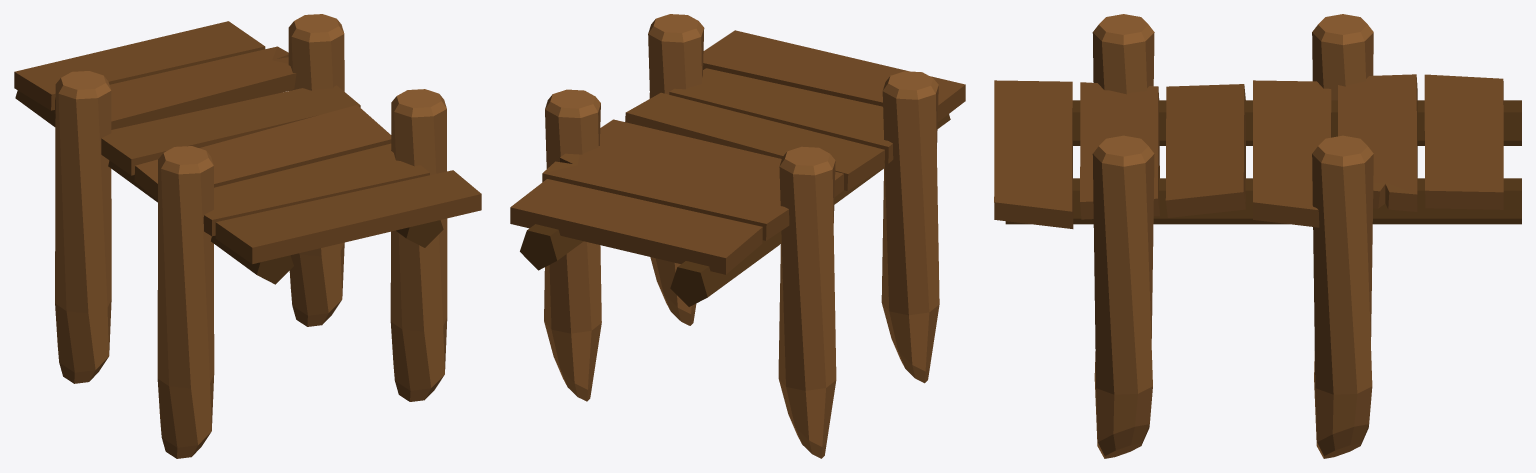
File: E_Jetty.fbx
3 views of the same model, side by side, from view 1: azimuth 30°, elevation 25°; view 2: azimuth 150°, elevation 25°; view 3: azimuth 270°, elevation 25° (orthographic). The views are drawn at different scales.
Parts seen in each view (by area): view 1: E_Jetty; view 2: E_Jetty; view 3: E_Jetty.
Boxes of the visible parts, x1,y1,x2,y2 form: E_Jetty: [14, 14, 481, 458]; E_Jetty: [510, 14, 965, 458]; E_Jetty: [994, 14, 1521, 458].
Size of the model in its own units: 230 by 231 by 348.
